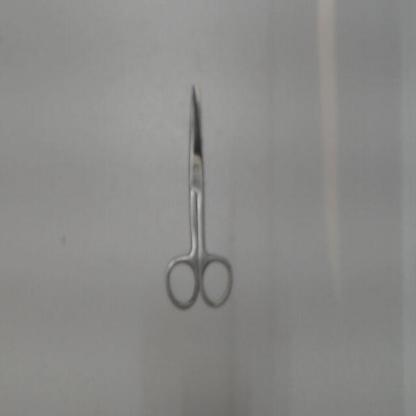Dressing Scissors: (155, 77, 241, 318)
